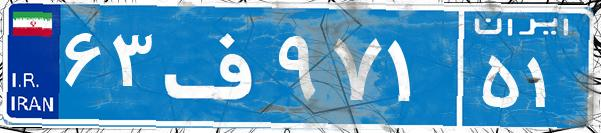1: (385, 28, 445, 110), (525, 38, 570, 115)
3: (110, 28, 158, 105)
5: (475, 38, 525, 113)
6: (57, 26, 110, 107)
7: (330, 28, 385, 110)
9: (273, 28, 330, 110)
ف: (158, 15, 273, 115)
